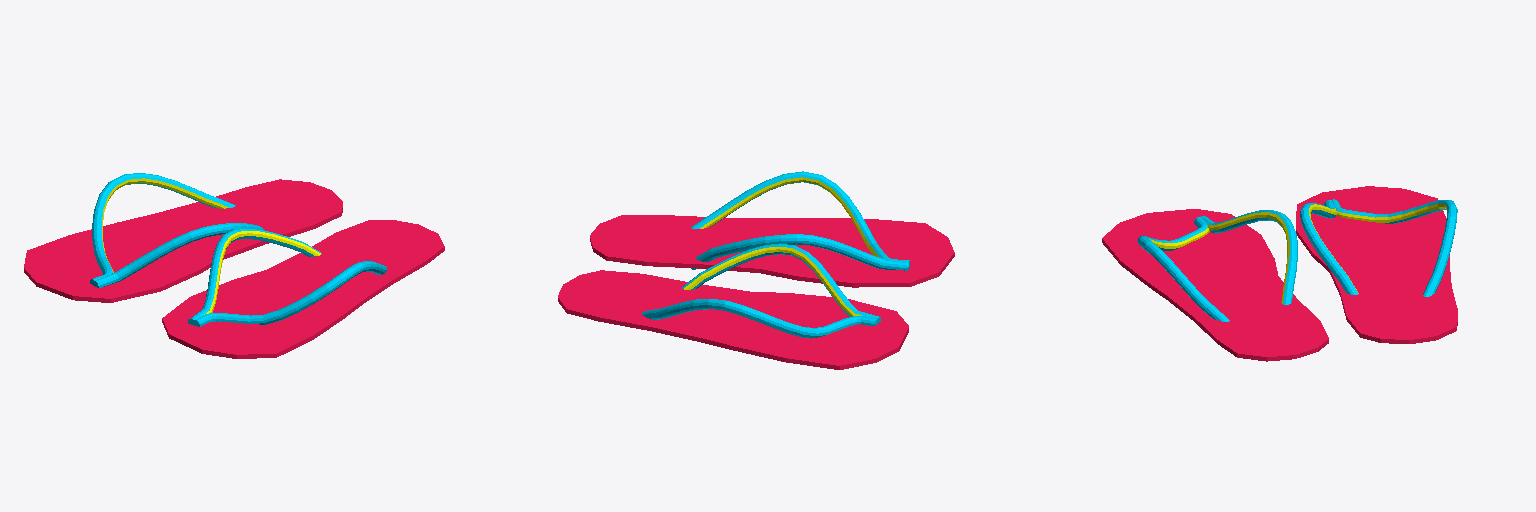
The model's file is FlipFlop.obj.
3 views of the same model, side by side, from view 1: azimuth 30°, elevation 25°; view 2: azimuth 150°, elevation 25°; view 3: azimuth 270°, elevation 25° (orthographic).
Parts seen in each view (by area): view 1: Box004, Box003, Line005, Line006; view 2: Box003, Box004, Line006, Line005; view 3: Box004, Box003, Line006, Line005.
Boxes of the visible parts, <box> form: Box004: <box>162,220,444,358</box>; Box003: <box>24,179,342,302</box>; Line005: <box>90,173,268,287</box>; Line006: <box>188,228,386,326</box>; Box003: <box>558,270,908,369</box>; Box004: <box>590,215,954,287</box>; Line006: <box>691,171,909,270</box>; Line005: <box>642,243,880,338</box>; Box004: <box>1102,209,1328,361</box>; Box003: <box>1296,186,1457,343</box>; Line006: <box>1137,210,1297,321</box>; Line005: <box>1300,199,1457,296</box>.
Size of the model in its own units: 9.54 by 1.51 by 8.39.